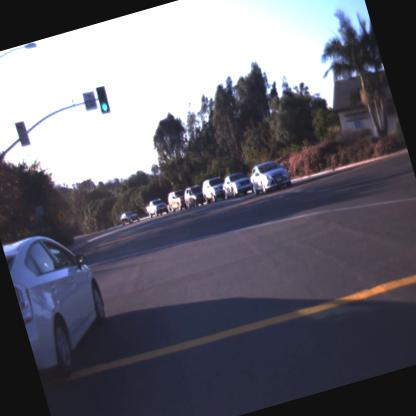trafficlight: (95, 86, 113, 116)
